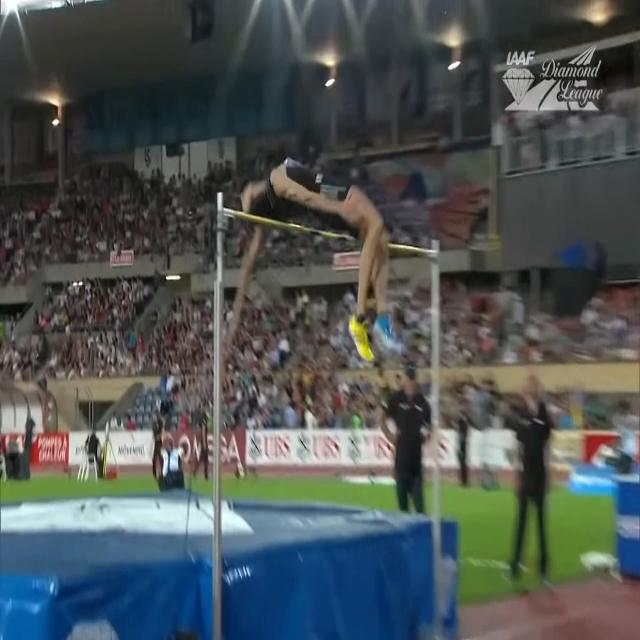jump: (236, 152, 408, 362)
